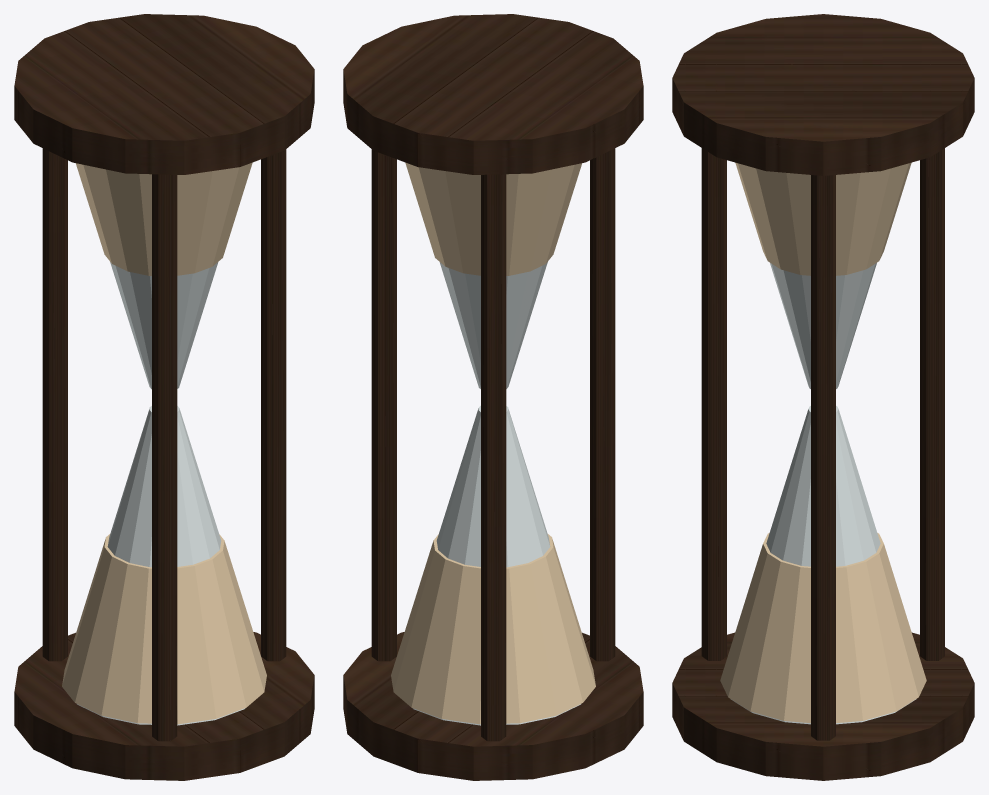
The model's file is hourglass.mobile.glb.
3 renders of one model, left to right at view 1: azimuth 30°, elevation 25°; view 2: azimuth 150°, elevation 25°; view 3: azimuth 270°, elevation 25°, orthographic.
Visible parts, largest first — view 1: Hourglass; view 2: Hourglass; view 3: Hourglass.
Boxes of the visible parts, x1,y1,x2,y2 form: Hourglass: [14, 14, 314, 780]; Hourglass: [343, 14, 643, 780]; Hourglass: [672, 14, 974, 780].
Bounding box in the file's own units: 0.12 × 0.28 × 0.12.
Materials: 3 (1 with a texture image).
